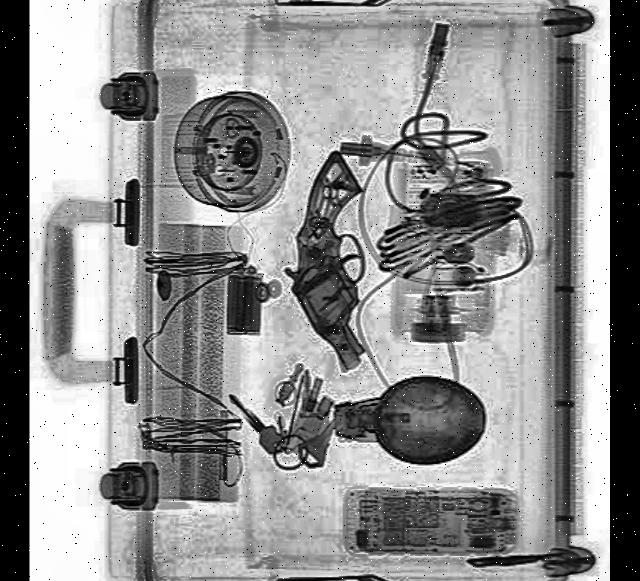Gun: (292, 146, 371, 372)
